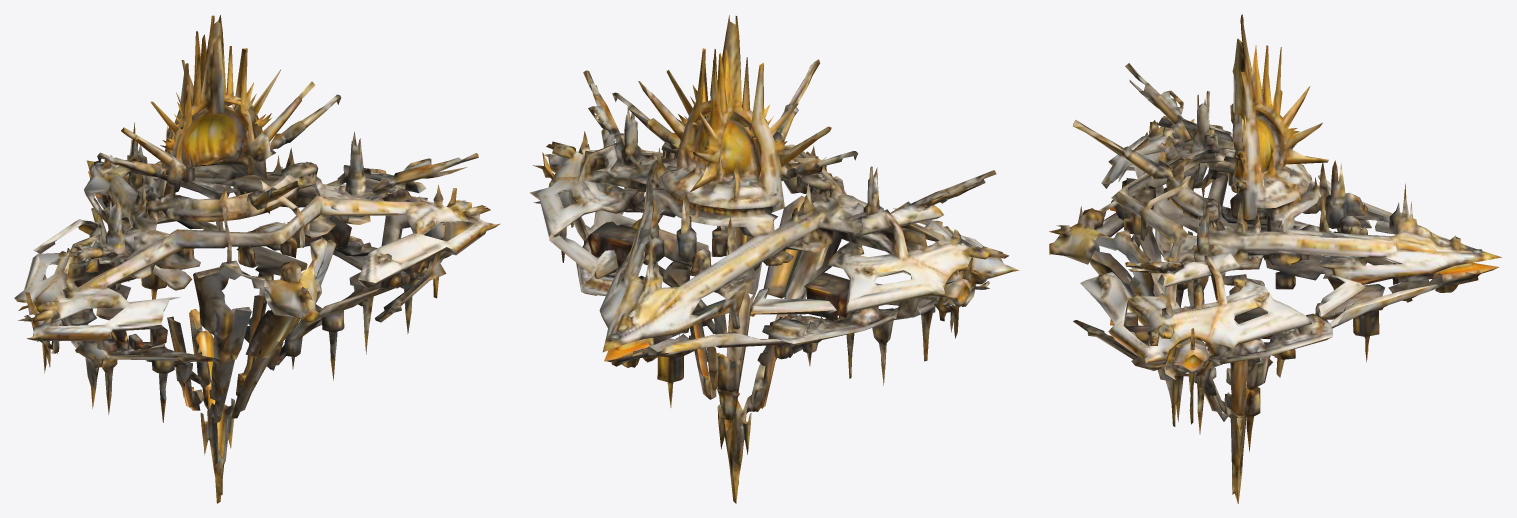
Rendered from HL_Station_Solarion_Military_retopo.glb.
The picture shows the model from 3 angles, left to right: view 1: azimuth 30°, elevation 25°; view 2: azimuth 150°, elevation 25°; view 3: azimuth 270°, elevation 25°; orthographic projection.
Parts seen in each view (by area): view 1: HL_Station_Solarion_Military_retopo; view 2: HL_Station_Solarion_Military_retopo; view 3: HL_Station_Solarion_Military_retopo.
Boxes of the visible parts, x1,y1,x2,y2 form: HL_Station_Solarion_Military_retopo: [14, 15, 500, 503]; HL_Station_Solarion_Military_retopo: [529, 15, 1019, 503]; HL_Station_Solarion_Military_retopo: [1049, 14, 1501, 503].
Bounding box in the file's own units: 0.9863 × 0.9691 × 0.8166.
Materials: 1 (1 with a texture image).
